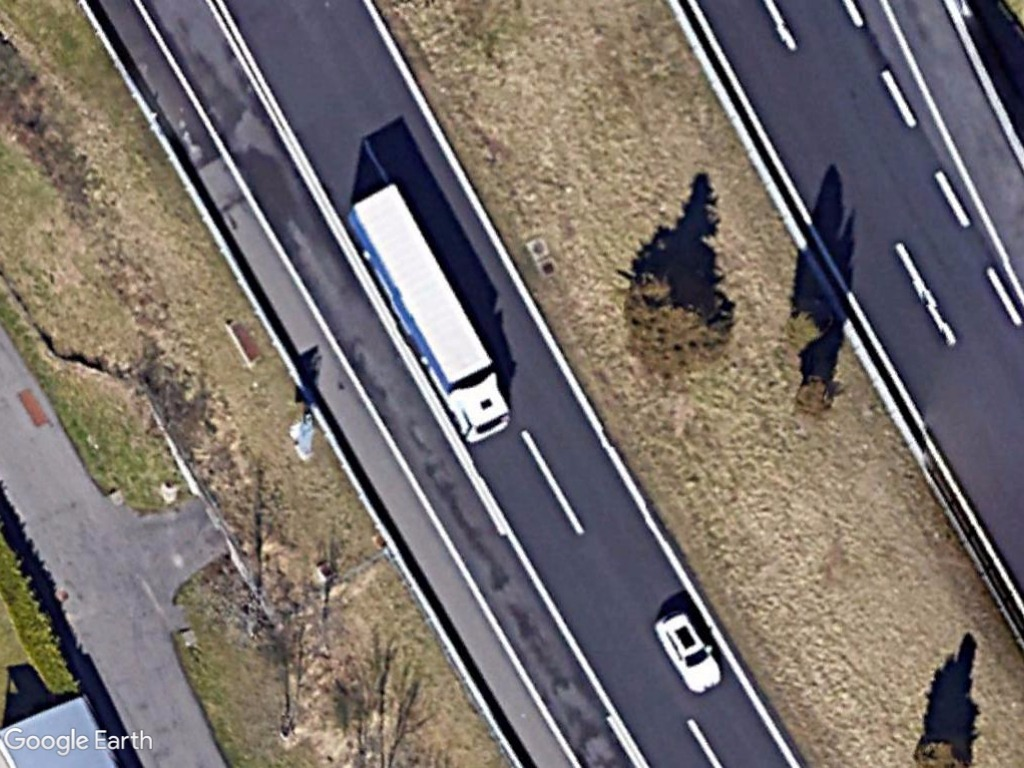car: (652, 605, 726, 696)
truck: (336, 173, 522, 447)
